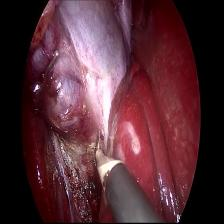Hook: (94, 124, 123, 193)
